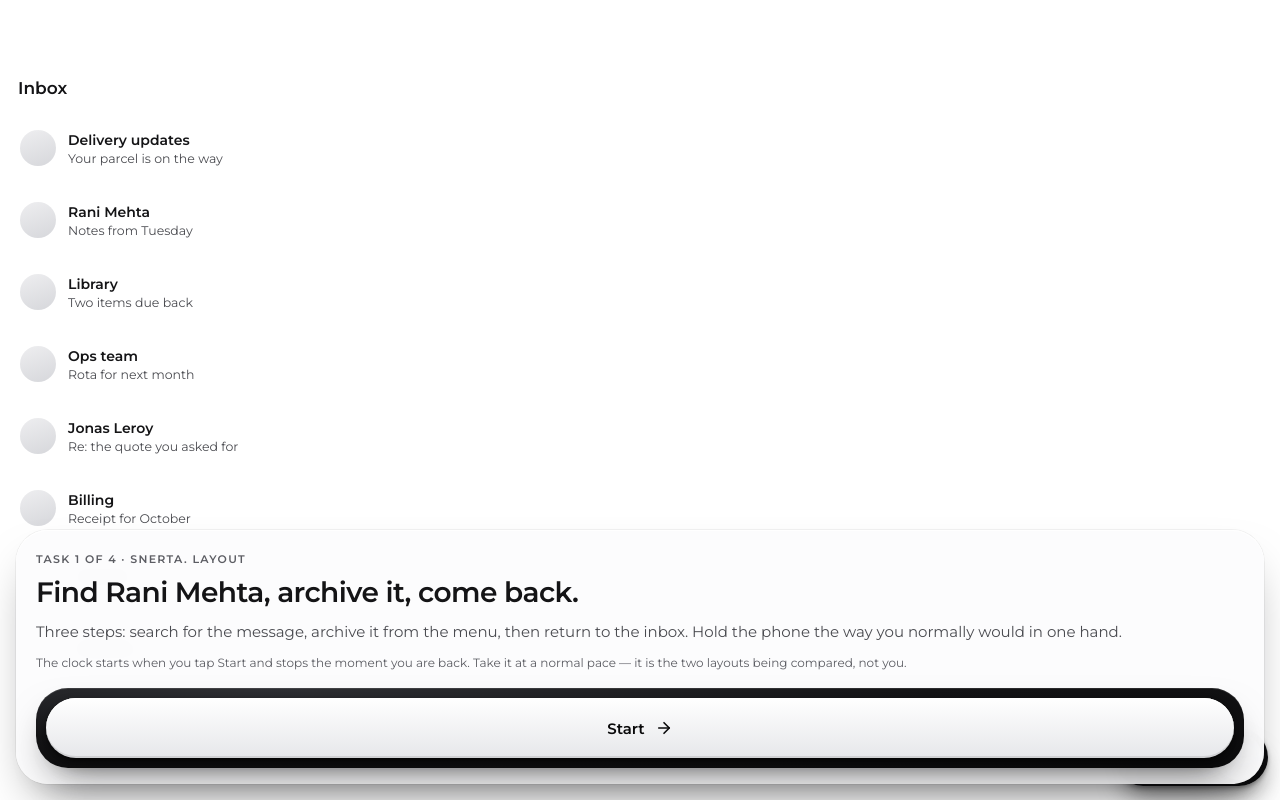
stopping and interruptions › voids a trial the person navigated away from, and says why
Click the button "Start" at [640, 728], box [46,698,1234,758]
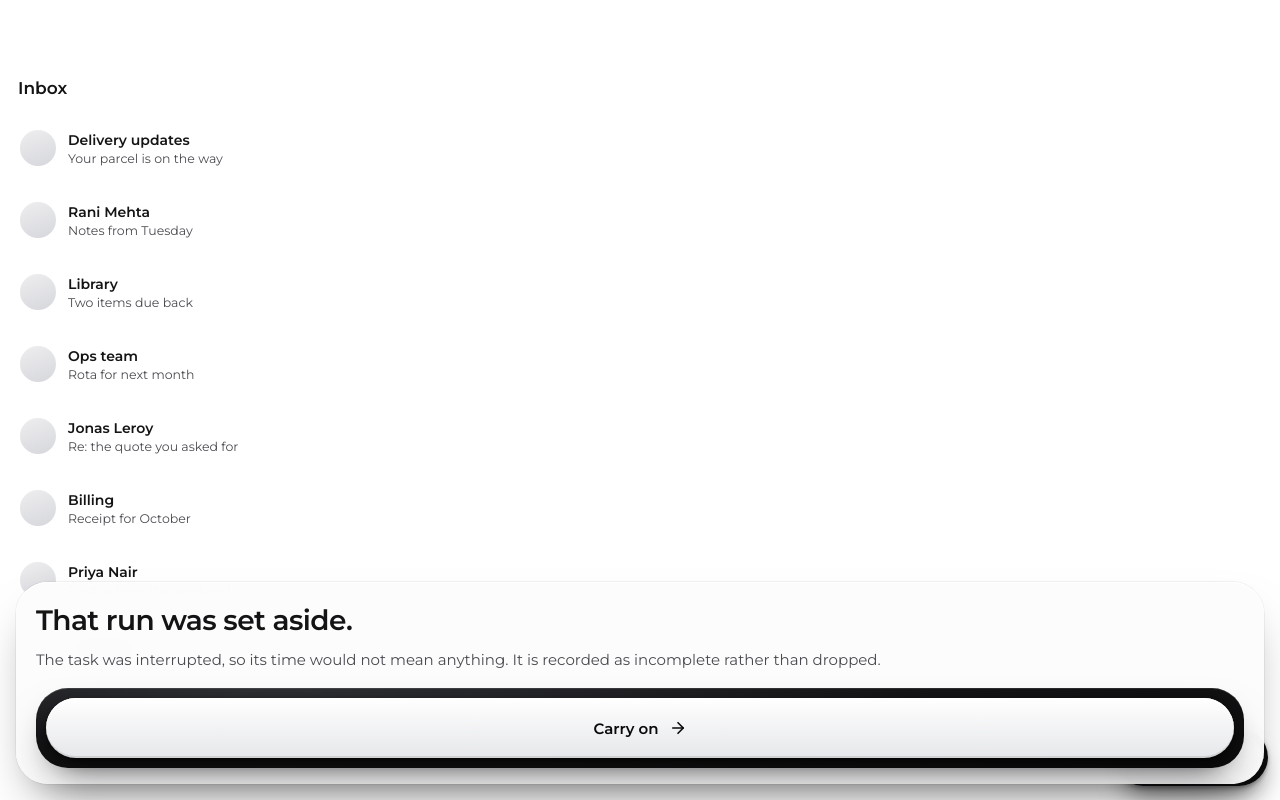
Check: the heading "That run was set aside." is shown, box [36,603,352,637]
